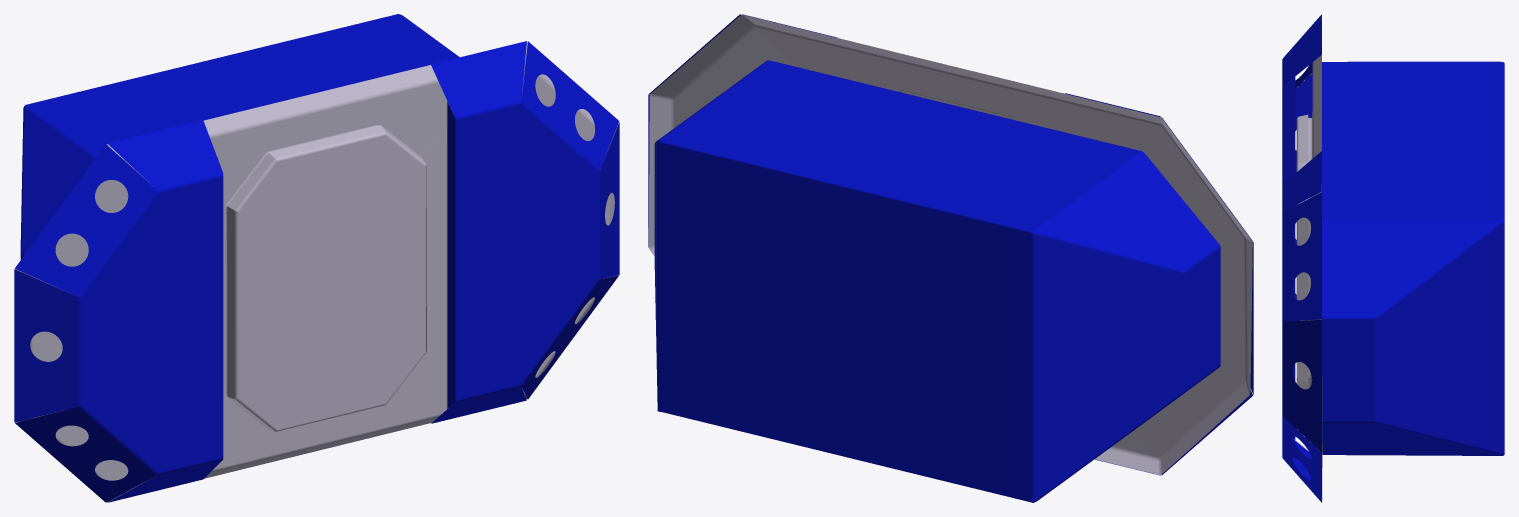
File: seekurJr_moh.obj
3 renders of one model, left to right at view 1: azimuth 30°, elevation 25°; view 2: azimuth 150°, elevation 25°; view 3: azimuth 270°, elevation 25°, orthographic. The views are drawn at different scales.
Parts seen in each view (by area): view 1: seekurjr_chassis; view 2: seekurjr_chassis; view 3: seekurjr_chassis.
Boxes of the visible parts, box(x1,y1,x2,y2) form: seekurjr_chassis: box(14, 14, 619, 502); seekurjr_chassis: box(648, 14, 1253, 502); seekurjr_chassis: box(1282, 14, 1504, 502).
Size of the model in its own units: 1.05 by 0.5956 by 0.3857.
